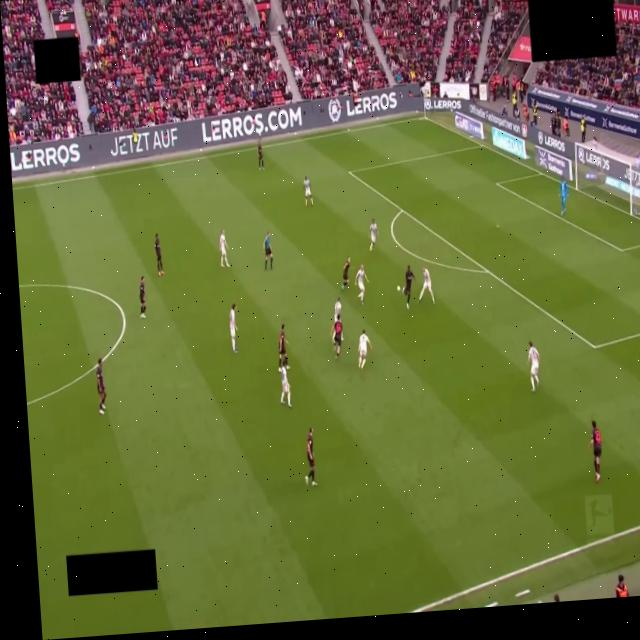ball: (397, 286, 400, 291)
player: (589, 421, 601, 482), (305, 427, 317, 486), (95, 358, 107, 414), (355, 265, 369, 305), (419, 267, 434, 304), (528, 342, 539, 392), (403, 265, 415, 308), (154, 233, 165, 277), (279, 325, 289, 371), (359, 330, 371, 368), (280, 367, 291, 407), (229, 303, 237, 352), (333, 315, 342, 358), (559, 178, 569, 216), (219, 230, 229, 267), (139, 277, 146, 318), (304, 176, 313, 206), (342, 257, 350, 289), (333, 297, 341, 326), (370, 220, 377, 251), (257, 140, 264, 170), (334, 297, 341, 322)
referee: (263, 232, 273, 269)
